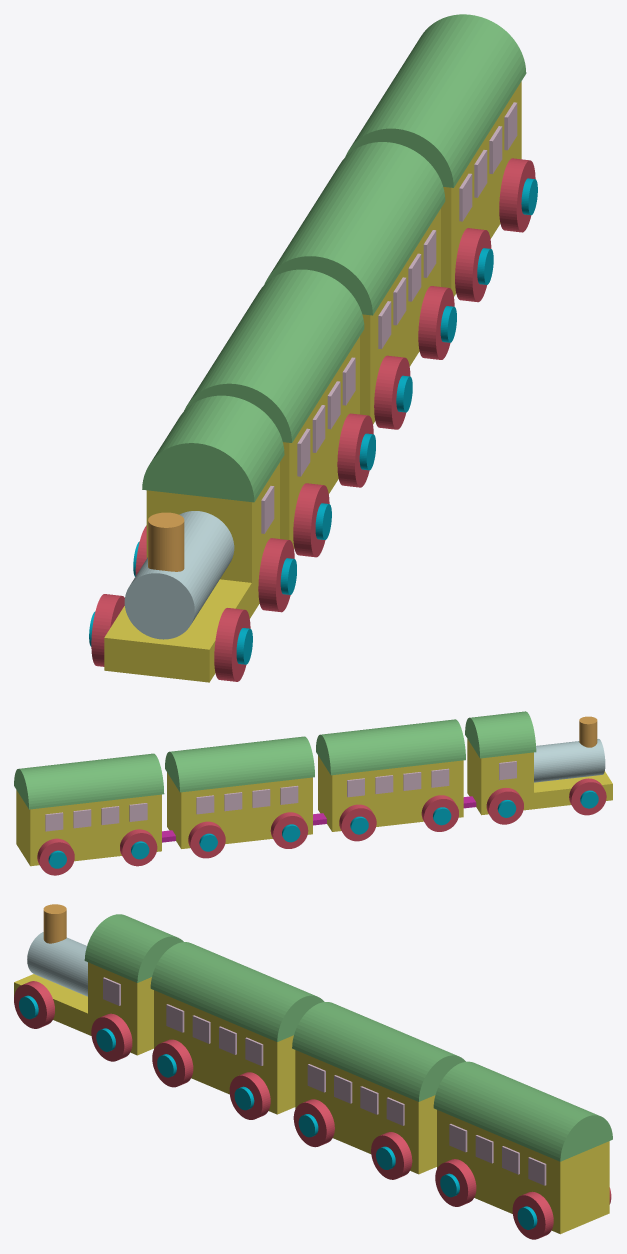
Rendered from TOY TRAIN.glb.
3 renders of one model, top to bottom at view 1: azimuth 30°, elevation 25°; view 2: azimuth 150°, elevation 25°; view 3: azimuth 270°, elevation 25°, orthographic. The views are drawn at different scales.
Visible parts, largest first — view 1: Mesh_Mesh_head_geo.001_lambert2SG.001; view 2: Mesh_Mesh_head_geo.001_lambert2SG.001; view 3: Mesh_Mesh_head_geo.001_lambert2SG.001.
Part boxes in pixels (x1,y1,x2,y2): Mesh_Mesh_head_geo.001_lambert2SG.001: (89, 14, 537, 682); Mesh_Mesh_head_geo.001_lambert2SG.001: (14, 711, 612, 875); Mesh_Mesh_head_geo.001_lambert2SG.001: (14, 904, 612, 1239).
Size of the model in its own units: 138 by 30 by 138.
